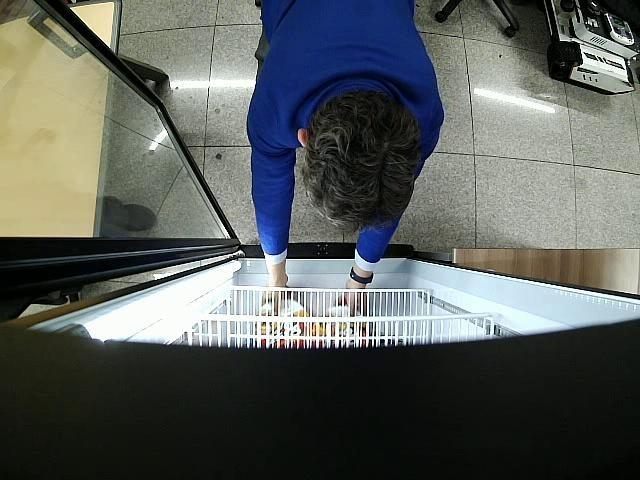10_wangTtukkeong: (256, 300, 312, 347), (319, 306, 366, 348)
